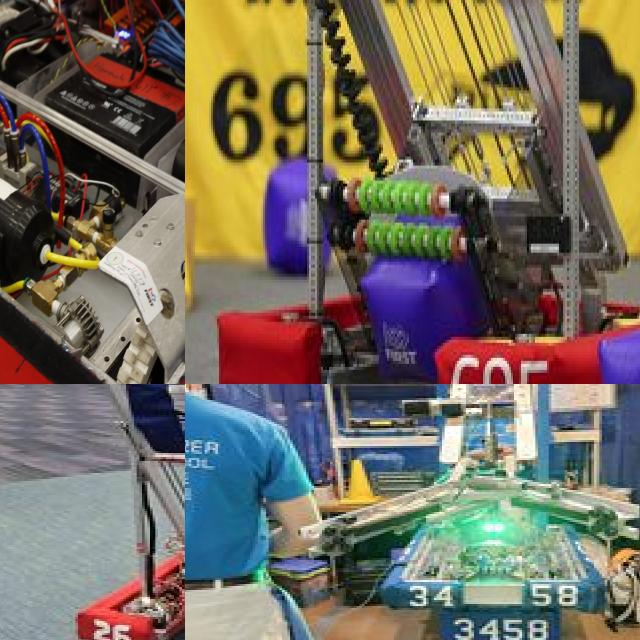FRC-Robots: (204, 0, 640, 384), (314, 390, 640, 640), (0, 0, 185, 384), (0, 384, 185, 640)
